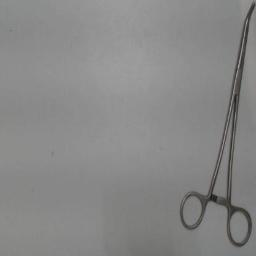Lahey Forceps: (172, 1, 256, 251)
